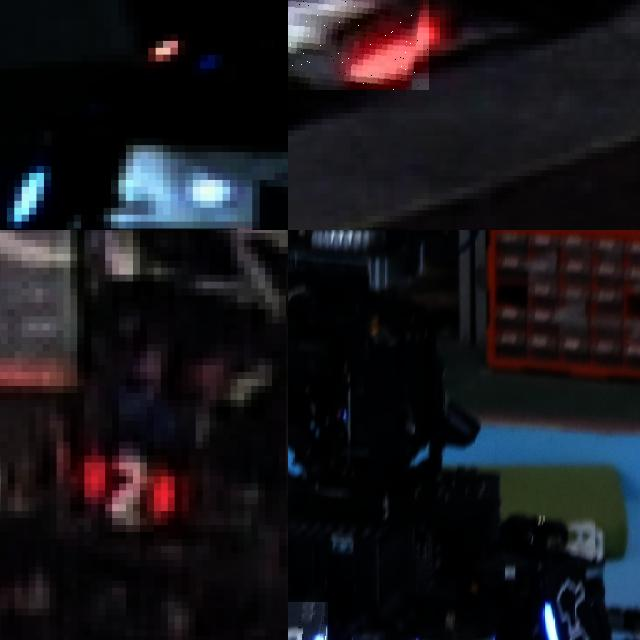Bs: (539, 570, 598, 640)
R2: (53, 431, 192, 550)
R4: (288, 0, 428, 90)
